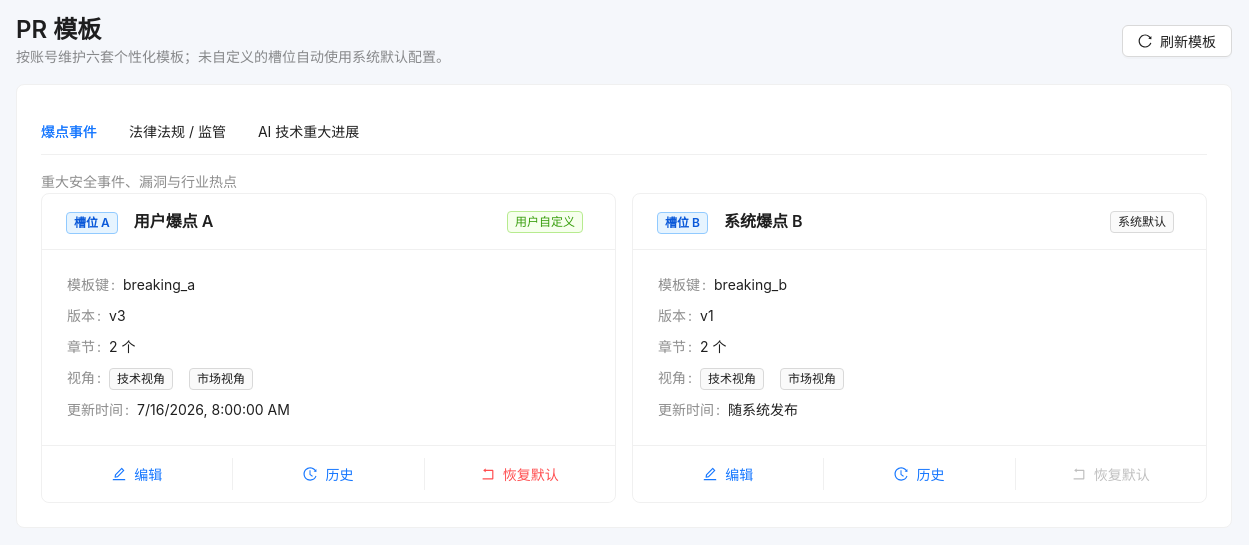
Test case: PRTemplatesPage › loads six templates and switches category cards
Check: the text "用户爆点 A" is shown, box [134,209,214,234]
Check: the text "用户自定义" is shown, box [507,211,583,233]
Step 1. Click the tab "AI 技术重大进展" → (309, 132), box [258,121,359,143]
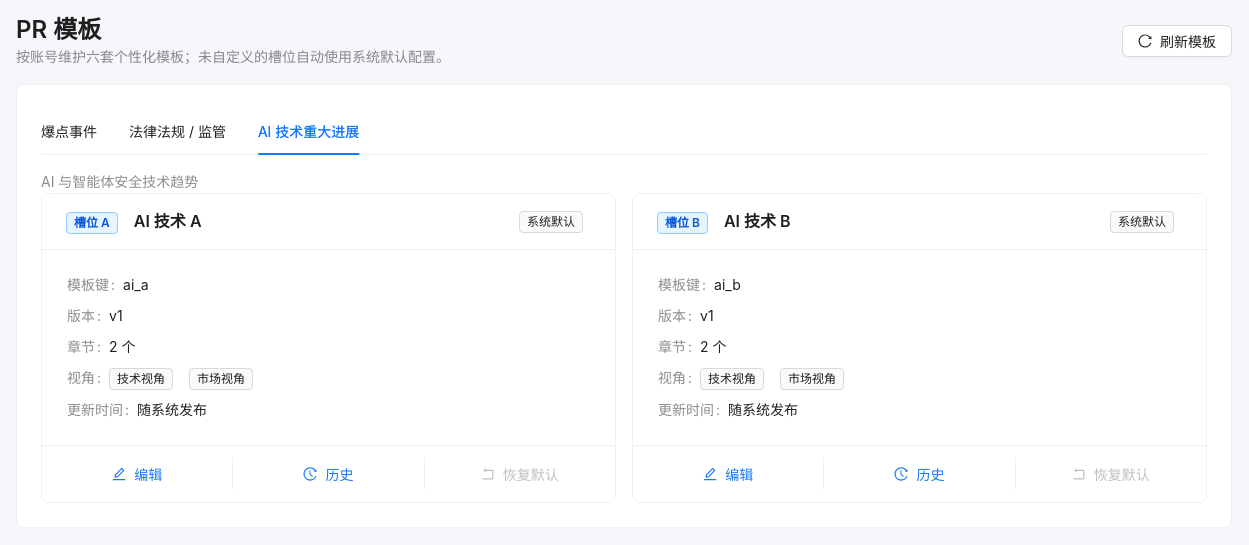
Check: the text "AI 技术 A" is shown, box [134,209,202,234]
Check: the text "用户爆点 A" is gone
